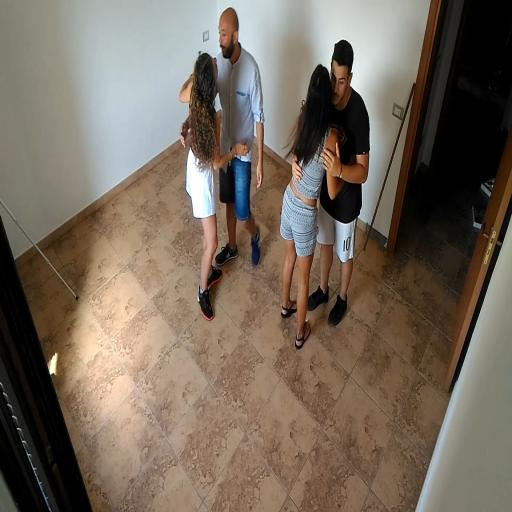nao-violencia: (270, 26, 376, 358), (174, 1, 273, 327)
